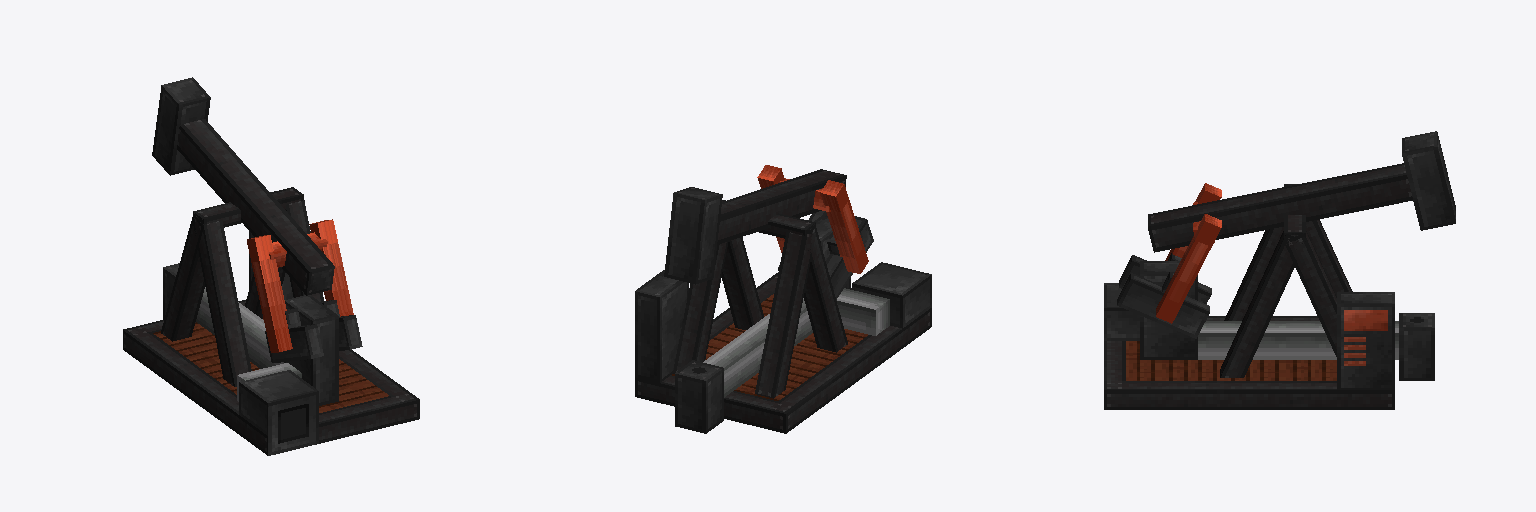
The picture shows the model from 3 angles: view 1: azimuth 30°, elevation 25°; view 2: azimuth 150°, elevation 25°; view 3: azimuth 270°, elevation 25°; orthographic projection.
Visible parts, largest first — view 1: platform, arm, right_back_leg, output_bus, top_arm_block, piston_block, right_front_leg, arm_orange1, main_pipe, arm_orange2, piston_bottom_right, hinge_top (+2 smaller); view 2: platform, right_front_leg, control, top_arm_block, arm, well_block, output_bus, right_back_leg, left_front_leg, main_pipe, left_back_leg, arm_orange1 (+3 smaller); view 3: platform, arm, control, main_pipe, top_arm_block, left_back_leg, piston_block, left_front_leg, piston_bottom_left, well_block, arm_orange2, right_back_leg (+3 smaller).
Boxes of the visible parts, <box> form: platform: <box>123,300,419,455</box>; arm: <box>177,119,334,295</box>; right_back_leg: <box>192,219,251,386</box>; output_bus: <box>239,370,318,435</box>; top_arm_block: <box>152,77,210,175</box>; piston_block: <box>284,295,338,405</box>; right_front_leg: <box>161,213,204,341</box>; arm_orange1: <box>247,235,292,352</box>; main_pipe: <box>196,287,283,368</box>; arm_orange2: <box>309,219,353,316</box>; piston_bottom_right: <box>265,324,323,362</box>; hinge_top: <box>193,187,303,227</box>; platform: <box>635,272,931,433</box>; right_front_leg: <box>755,230,812,398</box>; control: <box>635,270,688,382</box>; top_arm_block: <box>664,187,722,284</box>; arm: <box>717,169,846,244</box>; well_block: <box>675,360,723,433</box>; output_bus: <box>852,262,931,328</box>; right_back_leg: <box>804,224,847,352</box>; left_front_leg: <box>673,241,728,373</box>; main_pipe: <box>703,298,812,397</box>; left_back_leg: <box>722,237,763,329</box>; arm_orange1: <box>820,180,868,273</box>; platform: <box>1104,316,1394,409</box>; arm: <box>1148,163,1412,252</box>; control: <box>1337,292,1394,389</box>; main_pipe: <box>1198,321,1398,359</box>; top_arm_block: <box>1402,131,1455,230</box>; left_back_leg: <box>1220,231,1305,377</box>; piston_block: <box>1140,261,1197,359</box>; left_front_leg: <box>1284,231,1336,356</box>; piston_bottom_left: <box>1117,273,1209,338</box>; well_block: <box>1399,313,1434,380</box>; arm_orange2: <box>1156,214,1221,323</box>; right_back_leg: <box>1224,227,1283,320</box>.
Size of the model in its own units: 3 by 4.44 by 6.05.
1 materials, 1 textured.